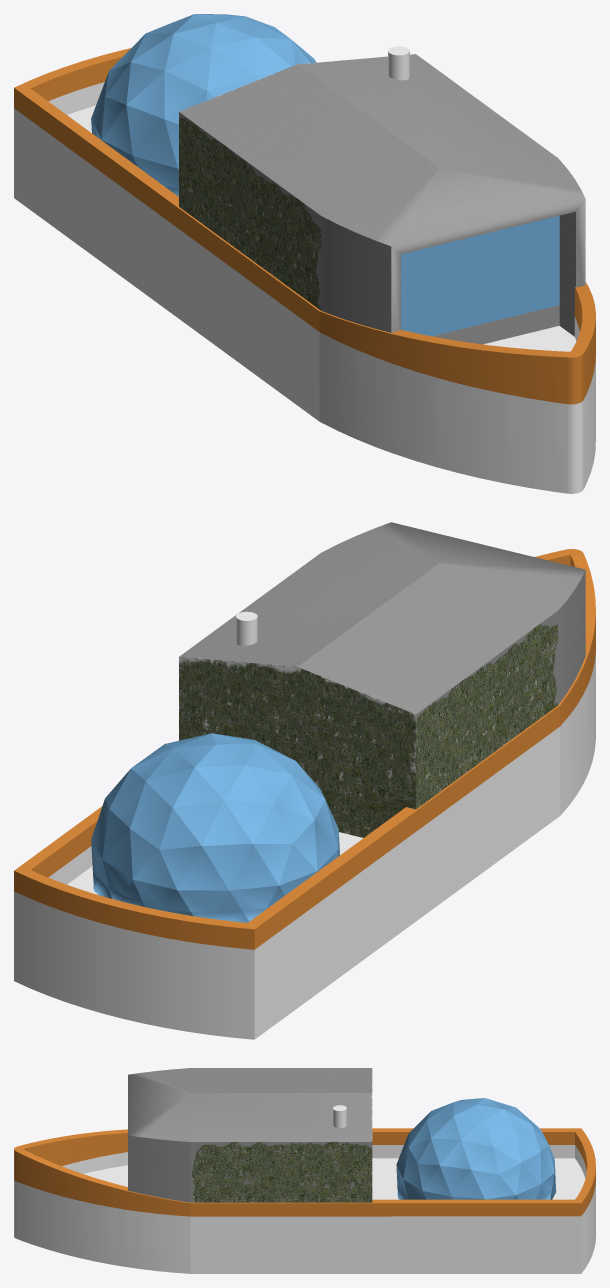
File: Houseboat.gltf
3 renders of one model, top to bottom at view 1: azimuth 30°, elevation 25°; view 2: azimuth 150°, elevation 25°; view 3: azimuth 270°, elevation 25°, orthographic. The views are drawn at different scales.
Parts seen in each view (by area): view 1: Houseboat; view 2: Houseboat; view 3: Houseboat.
Part boxes in pixels (x1,y1,x2,y2): Houseboat: [14, 14, 595, 493]; Houseboat: [14, 522, 595, 1039]; Houseboat: [14, 1068, 595, 1273].
Size of the model in its own units: 4.85 by 4.58 by 15.89.
4 materials, 1 textured.
